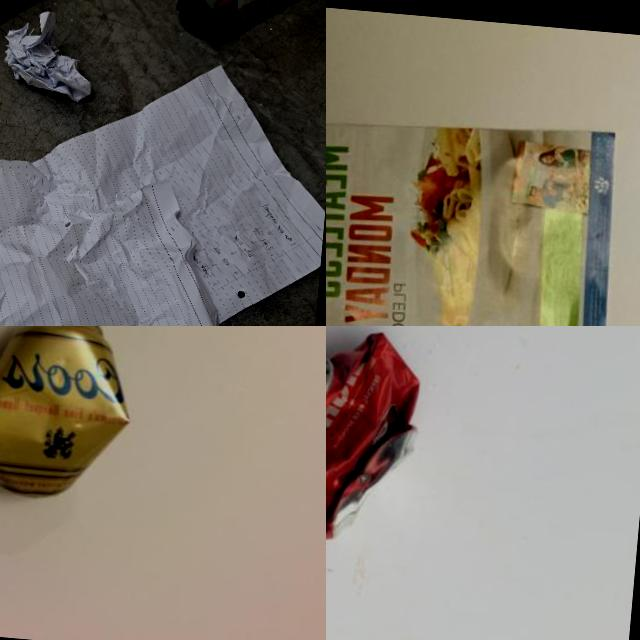lata: (0, 326, 136, 506), (326, 326, 426, 552)
papel: (0, 42, 326, 326), (326, 94, 623, 326), (0, 157, 273, 326), (0, 7, 96, 103)
papelão: (0, 0, 186, 74)
